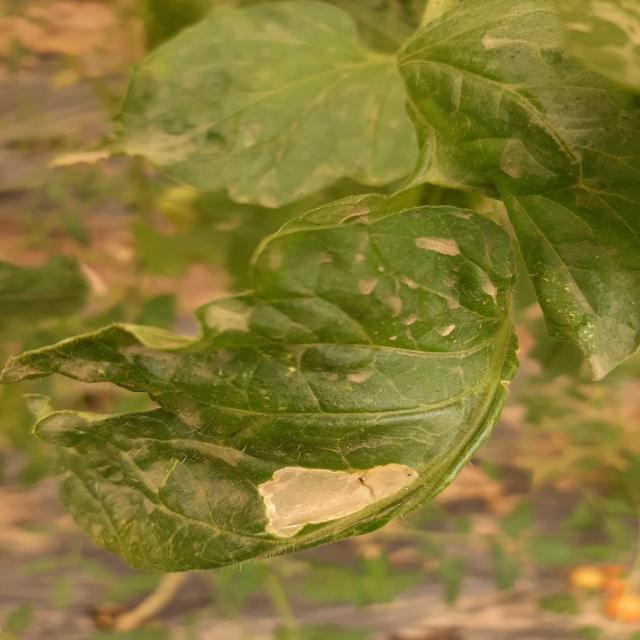Tuta absoluta: (254, 456, 426, 539)
